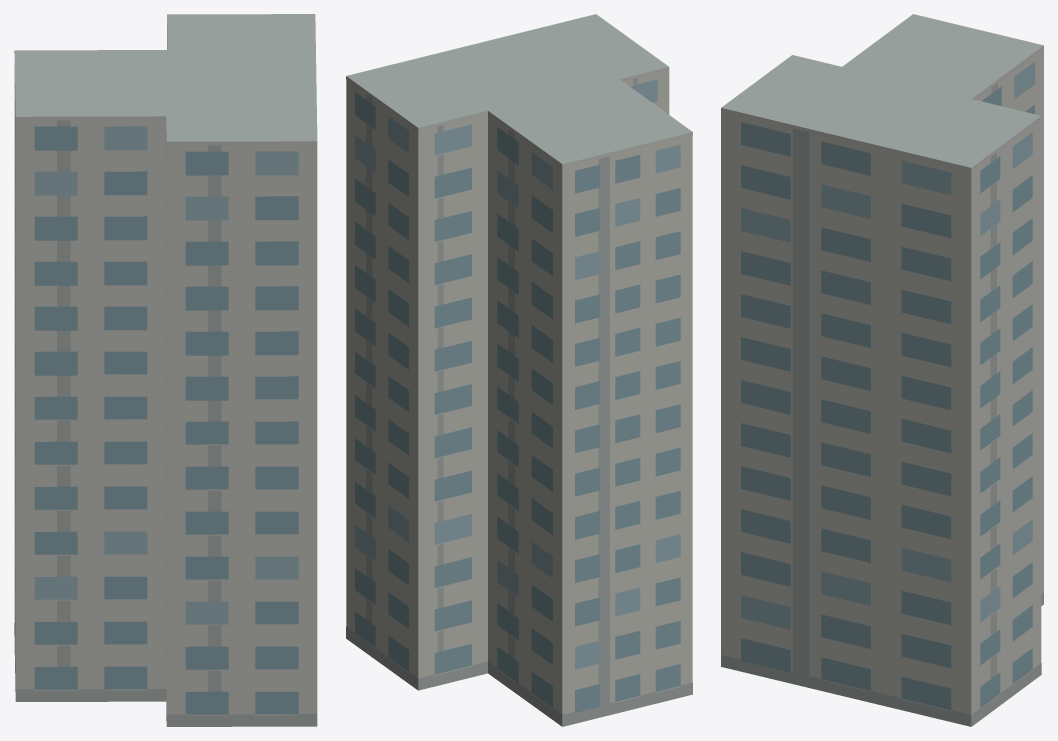
File: residential-dbcbf011-b402-4a67-9930-d2e1a9e20f60.glb
The picture shows the model from 3 angles, left to right: view 1: azimuth 30°, elevation 25°; view 2: azimuth 150°, elevation 25°; view 3: azimuth 270°, elevation 25°; orthographic projection. The views are drawn at different scales.
Parts seen in each view (by area): view 1: residential-dbcbf011-b402-4a67-9930-d2e1a9e20f60.tmp; view 2: residential-dbcbf011-b402-4a67-9930-d2e1a9e20f60.tmp; view 3: residential-dbcbf011-b402-4a67-9930-d2e1a9e20f60.tmp.
Boxes of the visible parts, x1,y1,x2,y2 form: residential-dbcbf011-b402-4a67-9930-d2e1a9e20f60.tmp: [14, 14, 317, 726]; residential-dbcbf011-b402-4a67-9930-d2e1a9e20f60.tmp: [346, 14, 692, 726]; residential-dbcbf011-b402-4a67-9930-d2e1a9e20f60.tmp: [721, 14, 1043, 726].
Size of the model in its own units: 23.62 by 40 by 20.94.
